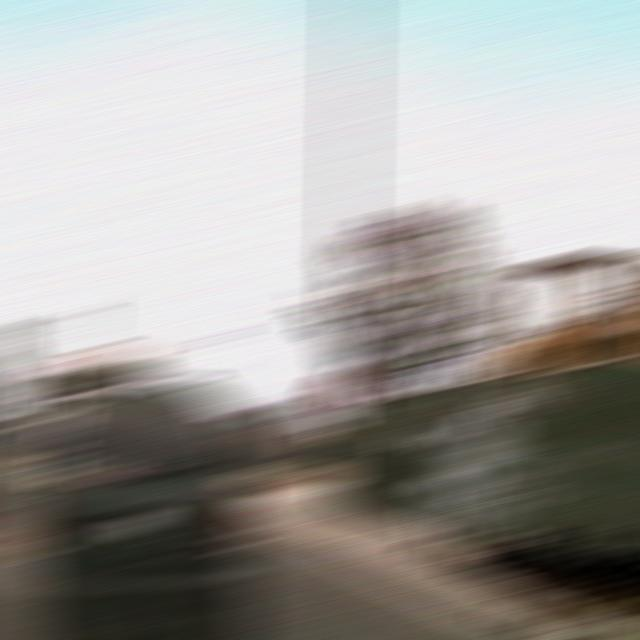stop: (315, 368, 371, 408)
